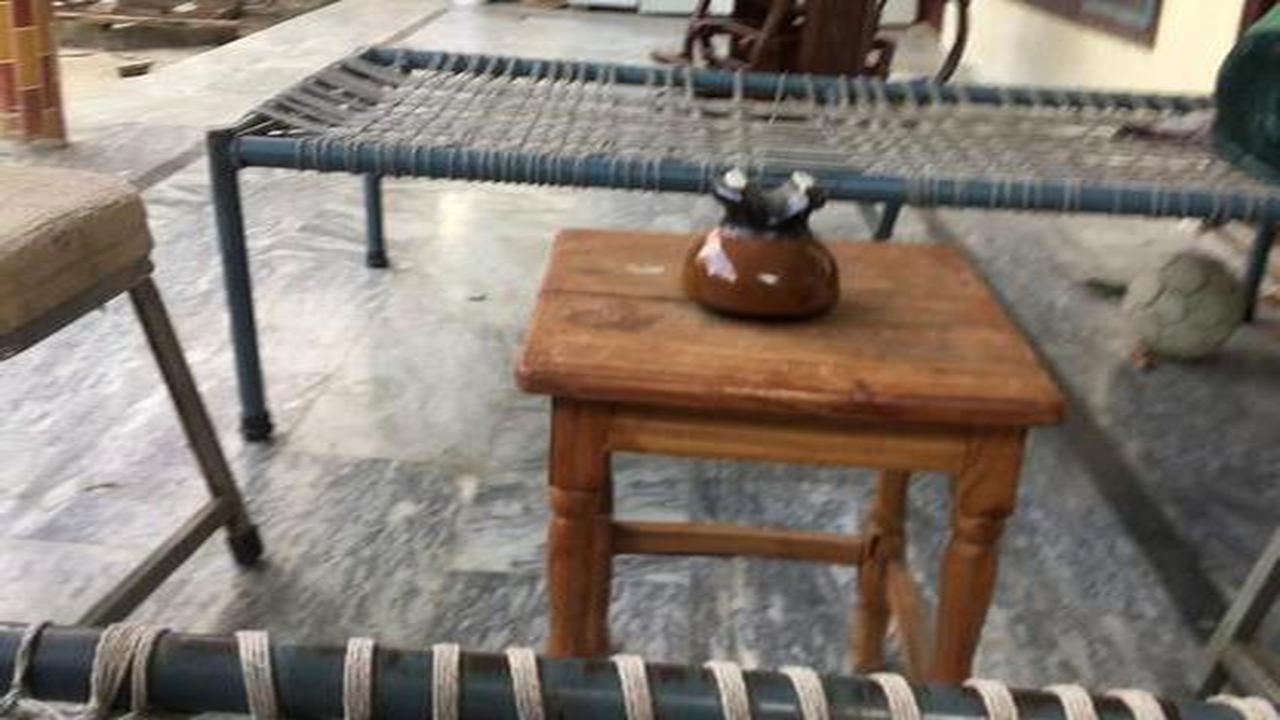insulator_pin: (668, 161, 859, 322)
